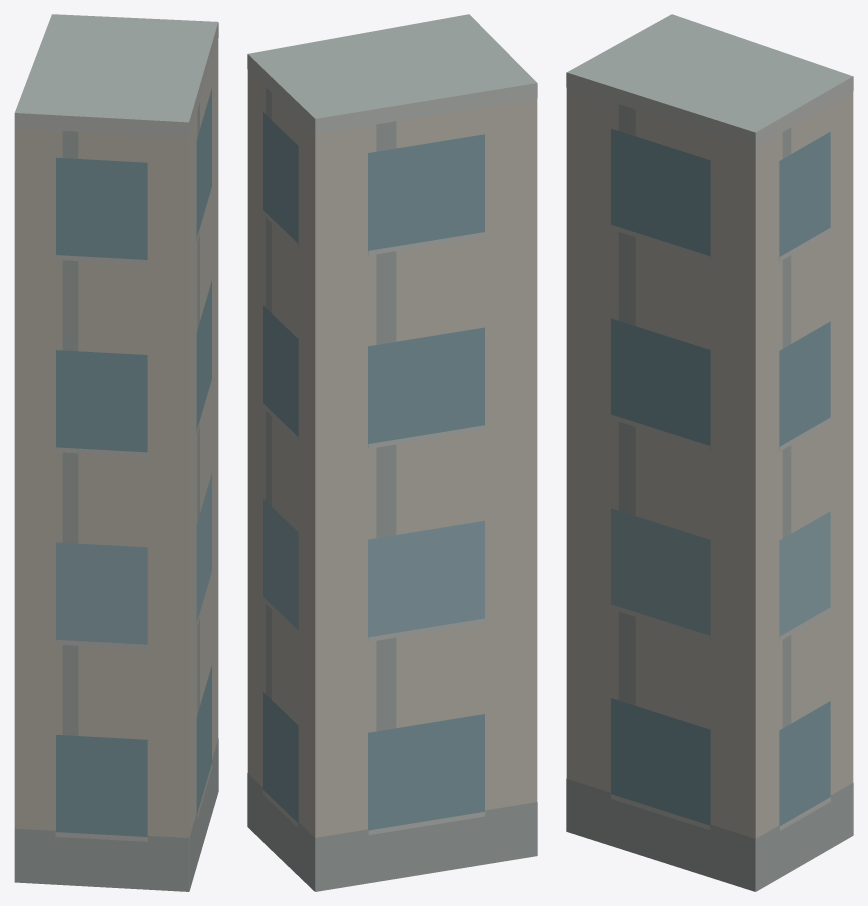
Rendered from survey-upis-32744374.glb.
3 views of the same model, side by side, from view 1: azimuth 30°, elevation 25°; view 2: azimuth 150°, elevation 25°; view 3: azimuth 270°, elevation 25° (orthographic).
Parts seen in each view (by area): view 1: survey-upis-32744374.tmp; view 2: survey-upis-32744374.tmp; view 3: survey-upis-32744374.tmp.
Part boxes in pixels (left/top/right/bottom): survey-upis-32744374.tmp: left=14, top=14, right=218, bottom=891; survey-upis-32744374.tmp: left=247, top=14, right=537, bottom=891; survey-upis-32744374.tmp: left=566, top=14, right=853, bottom=891.
Bounding box in the file's own units: 4.09 × 12.2 × 4.18.
